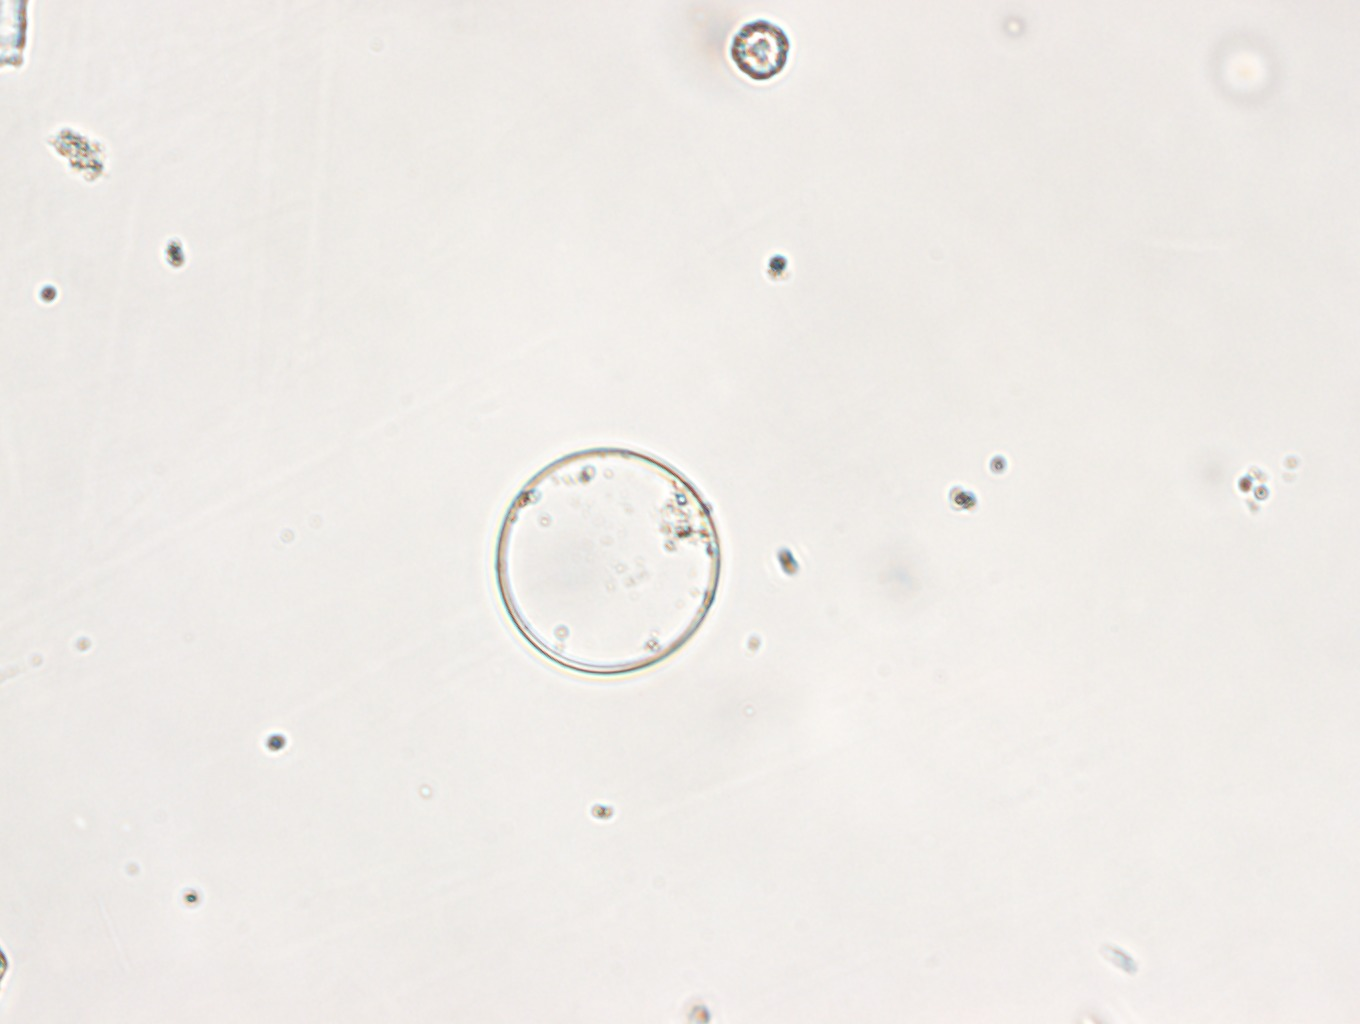coscinodiscus: (495, 439, 721, 679)
